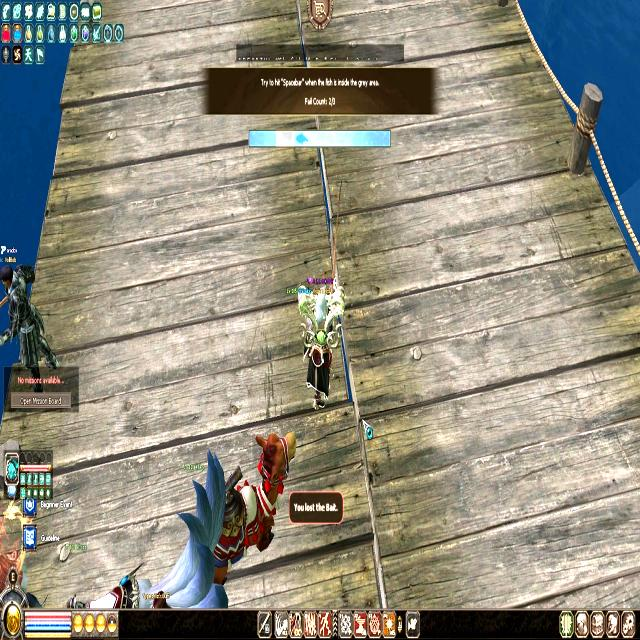fishes: (295, 131, 309, 147)
